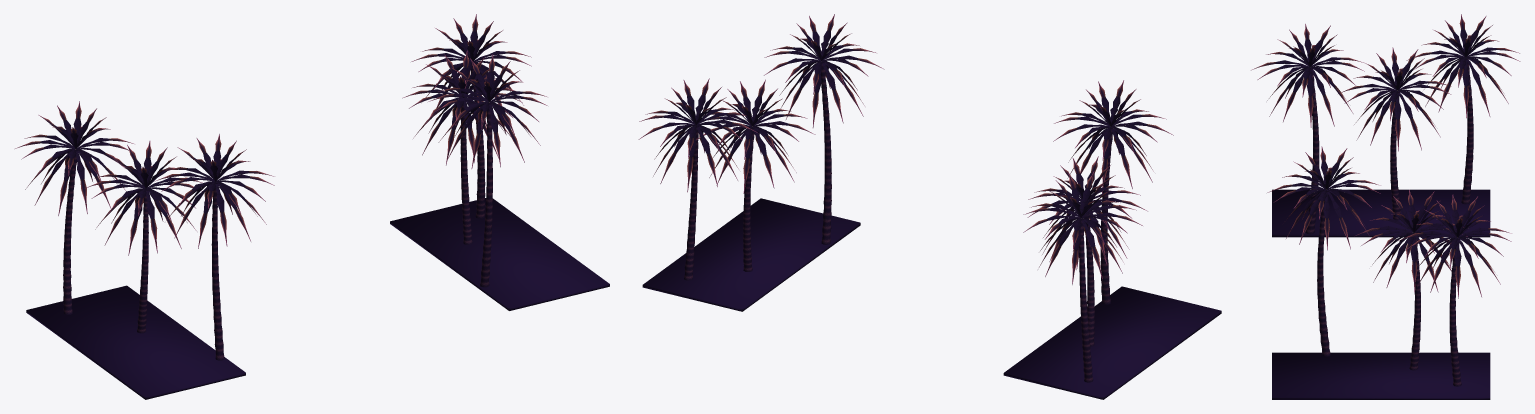
The model's file is night-drive-outrun.glb.
The picture shows the model from 3 angles, left to right: view 1: azimuth 30°, elevation 25°; view 2: azimuth 150°, elevation 25°; view 3: azimuth 270°, elevation 25°; orthographic projection. The views are drawn at different scales.
Visible parts, largest first — view 1: night-drive-outrun; view 2: night-drive-outrun; view 3: night-drive-outrun.
Part boxes in pixels (<box>): night-drive-outrun: <box>15,14,609,399</box>; night-drive-outrun: <box>638,14,1221,399</box>; night-drive-outrun: <box>1251,14,1520,399</box>.
Size of the model in its own units: 38.68 by 16.22 by 19.82.
Materials: 1 (1 with a texture image).
